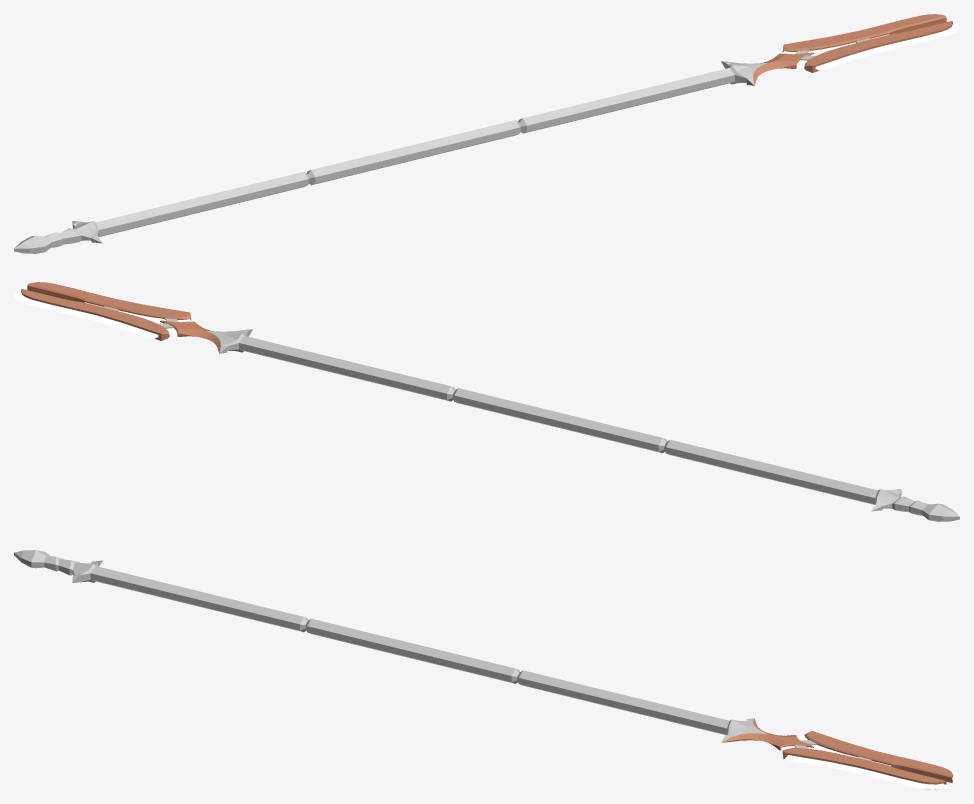
Rendered from weap1_spear.fbx.
3 renders of one model, top to bottom at view 1: azimuth 30°, elevation 25°; view 2: azimuth 150°, elevation 25°; view 3: azimuth 330°, elevation 25°, orthographic.
Visible parts, largest first — view 1: weap1_spear; view 2: weap1_spear; view 3: weap1_spear.
Part boxes in pixels (x1=…): weap1_spear: x1=14, y1=14, x2=959, y2=253; weap1_spear: x1=14, y1=282, x2=959, y2=521; weap1_spear: x1=14, y1=550, x2=959, y2=789.
Size of the model in its own units: 200 by 3.94 by 13.35.
